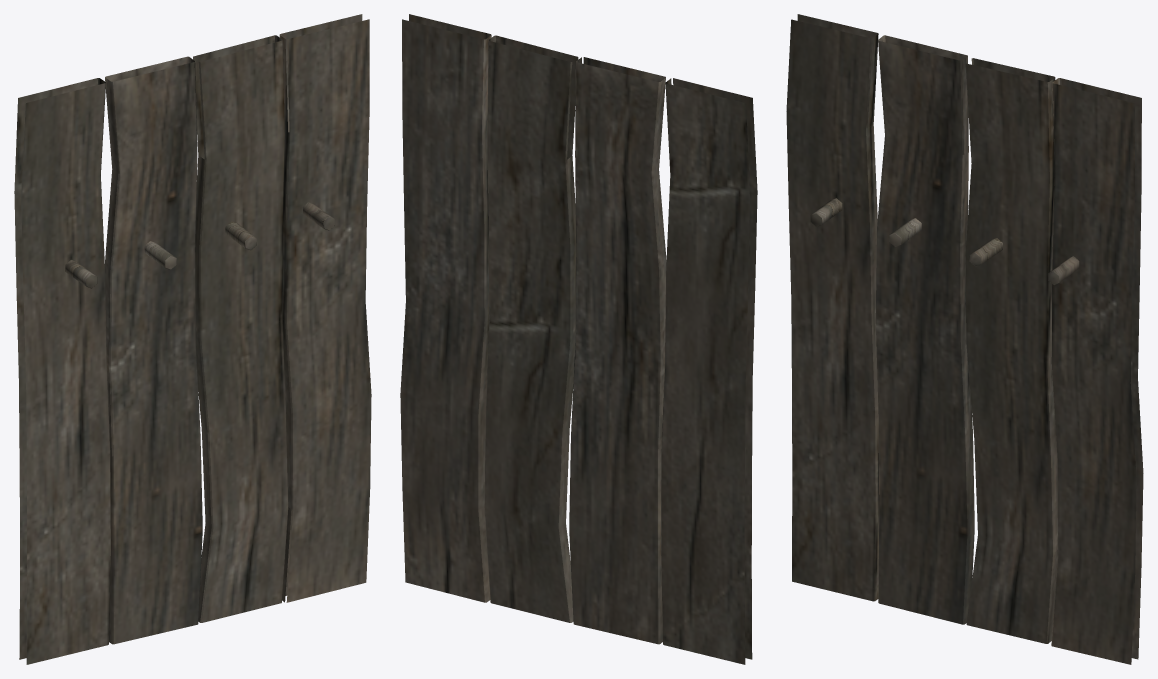
Rendered from door_1.glb.
3 views of the same model, side by side, from view 1: azimuth 30°, elevation 25°; view 2: azimuth 150°, elevation 25°; view 3: azimuth 330°, elevation 25° (orthographic).
Parts seen in each view (by area): view 1: door.001; view 2: door.001; view 3: door.001.
Part boxes in pixels (x1,y1,x2,y2): door.001: [14, 14, 371, 664]; door.001: [400, 14, 757, 664]; door.001: [786, 14, 1143, 664].
Bounding box in the file's own units: 1.31 × 2.02 × 0.1814.
Materials: 1 (1 with a texture image).
